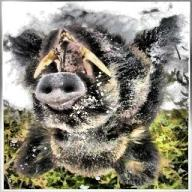boar: (6, 16, 180, 188)
